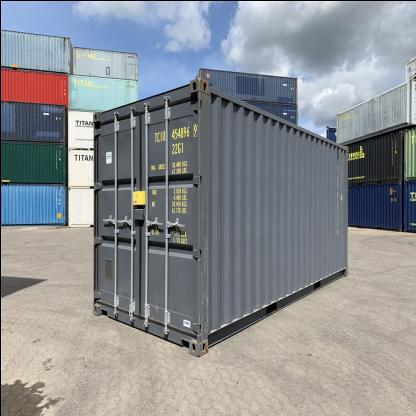Damage: (194, 180, 214, 340), (10, 103, 26, 137), (50, 186, 62, 223), (148, 296, 160, 326), (32, 60, 66, 70), (120, 50, 130, 72), (54, 33, 68, 47), (122, 76, 136, 88)
